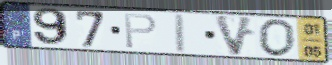7: (74, 8, 106, 49)
9: (32, 7, 72, 48)
I: (173, 12, 188, 55)
O: (256, 17, 297, 58)
P: (123, 12, 159, 50)
V: (212, 13, 256, 57)
